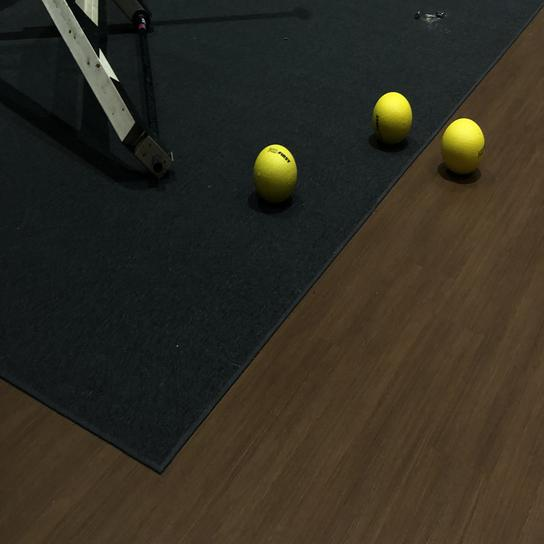ball: (437, 115, 488, 179), (250, 142, 300, 206), (368, 89, 414, 150)
